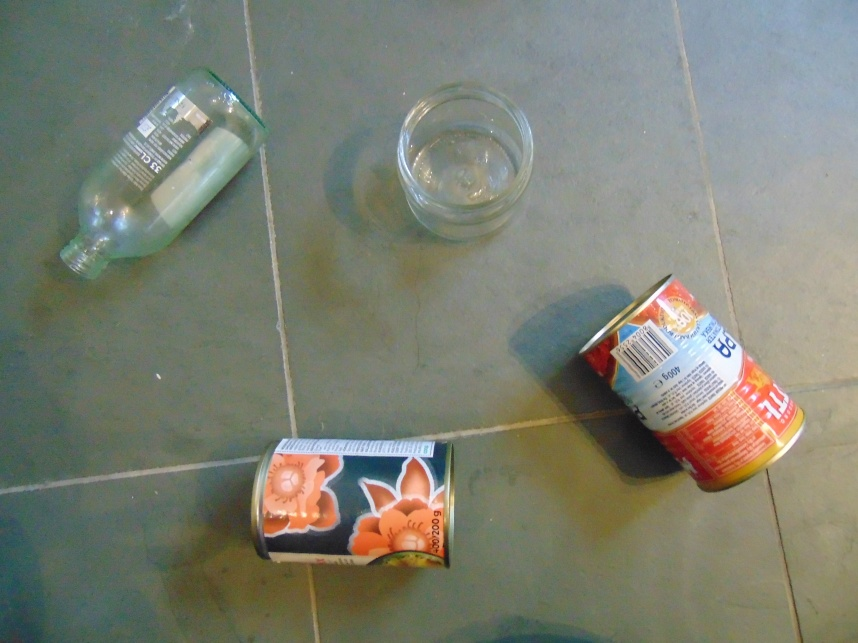glass_bottle: (57, 68, 270, 284), (396, 80, 534, 241)
metal_can: (578, 272, 810, 493), (249, 436, 457, 572)
